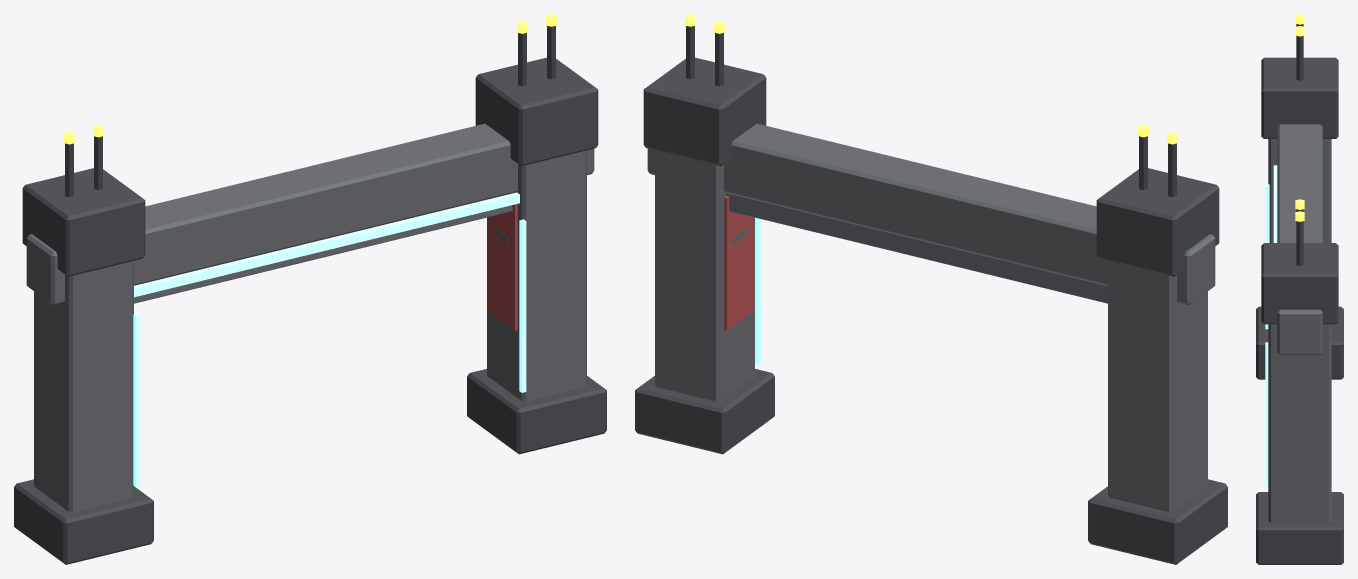
The model's file is heatsinkGantryStart.7f73743e.glb.
3 renders of one model, left to right at view 1: azimuth 30°, elevation 25°; view 2: azimuth 150°, elevation 25°; view 3: azimuth 270°, elevation 25°, orthographic. The views are drawn at different scales.
Parts seen in each view (by area): view 1: gantry_start; view 2: gantry_start; view 3: gantry_start.
Boxes of the visible parts, <box> form: gantry_start: <box>14,14,606,564</box>; gantry_start: <box>635,14,1227,564</box>; gantry_start: <box>1256,14,1343,564</box>.
Bounding box in the file's own units: 30 × 21.4 × 5.
